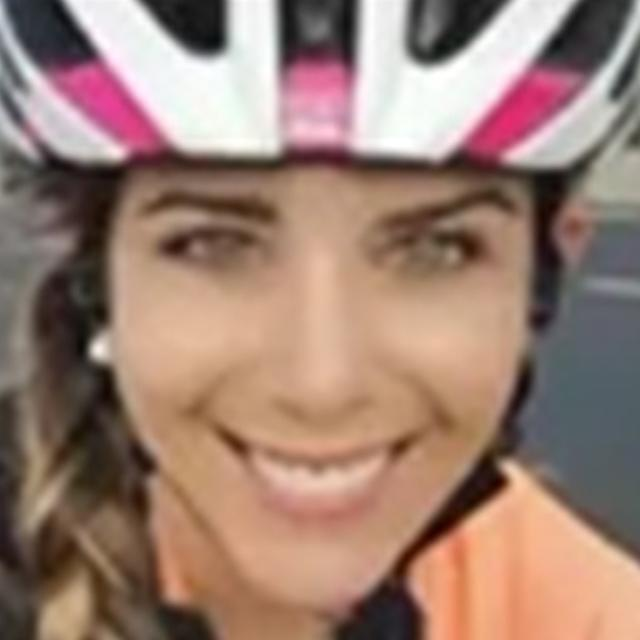Normal: (107, 161, 536, 626)
